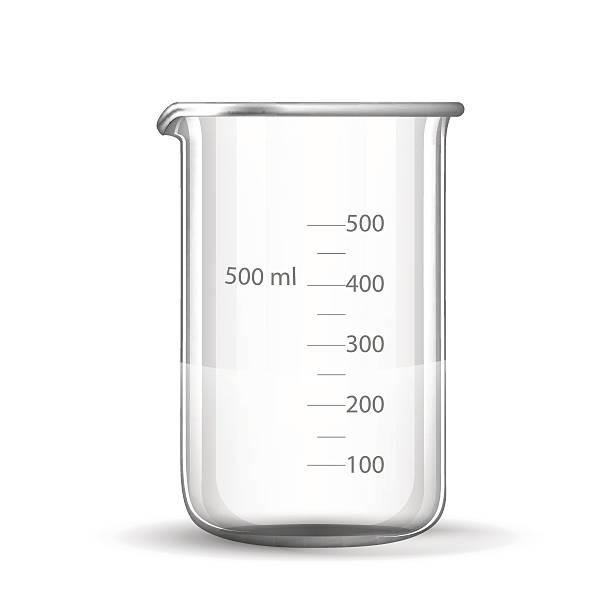Beaker: (148, 97, 471, 542)
